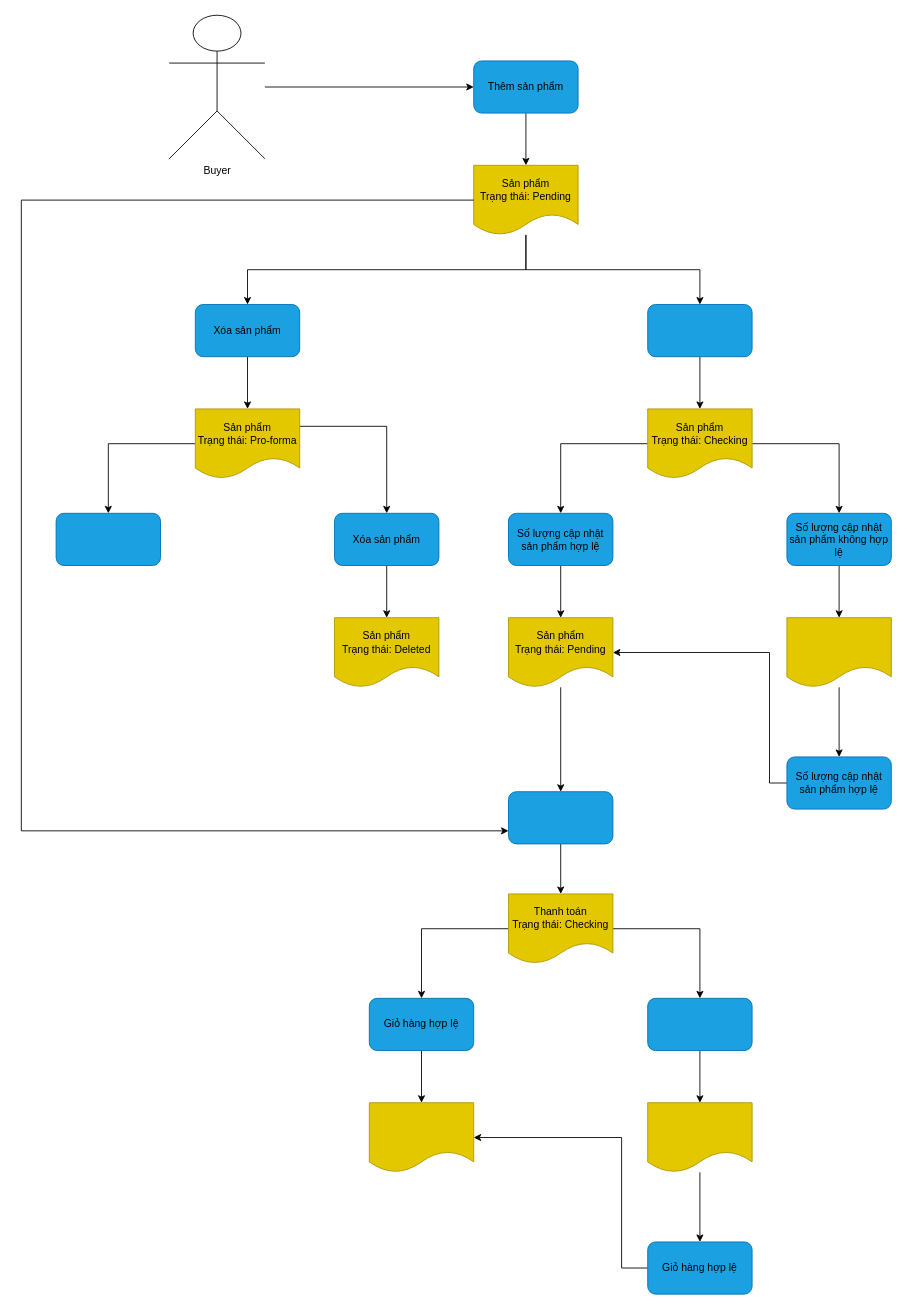
This 907x1309 diagram has some shape labels left out. Here are the shapes that lost their labels. From the top down, the centre of each, then its label:
[699,330]: Cập nhật số lượng sản phẩm
[108,539]: Hủy bỏ xóa sản phẩm
[838,652]: Sản phẩm Trạng thái: Invalid
[560,817]: Thanh toán
[699,1024]: Giỏ hàng không hợp lệ
[421,1137]: Giỏ hàng Trạng thái: Paid
[699,1137]: Giỏ hàng Trạng thái: Invalid
